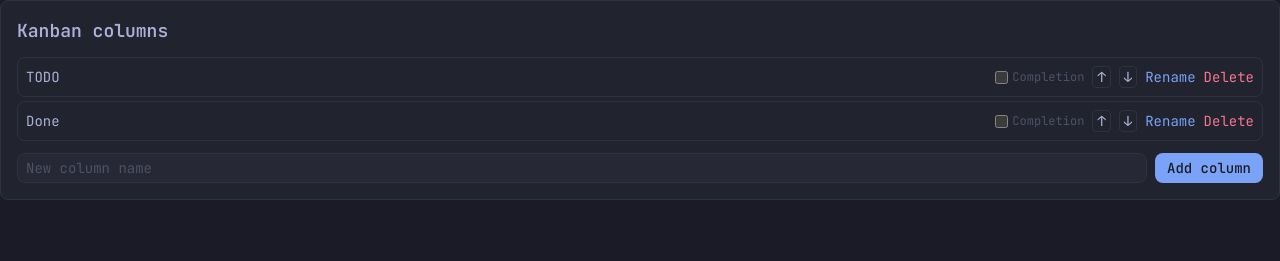
Scenario: ColumnsManager › surfaces a 409 COMPLETION_COLUMN_CONFLICT error
Expected: the text "TODO" is shown, [26, 68, 60, 86]
What coordinates should you click on to do the following:
click the checkbox named "completion column: todo"
I would click on:
 (1002, 77)
Its box is [995, 70, 1008, 84].
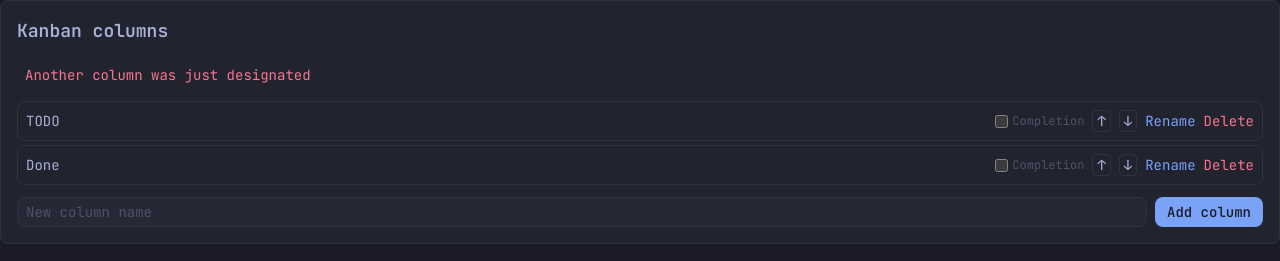
Expected: the text "Another column was just designated" is shown, [25, 66, 311, 84]
